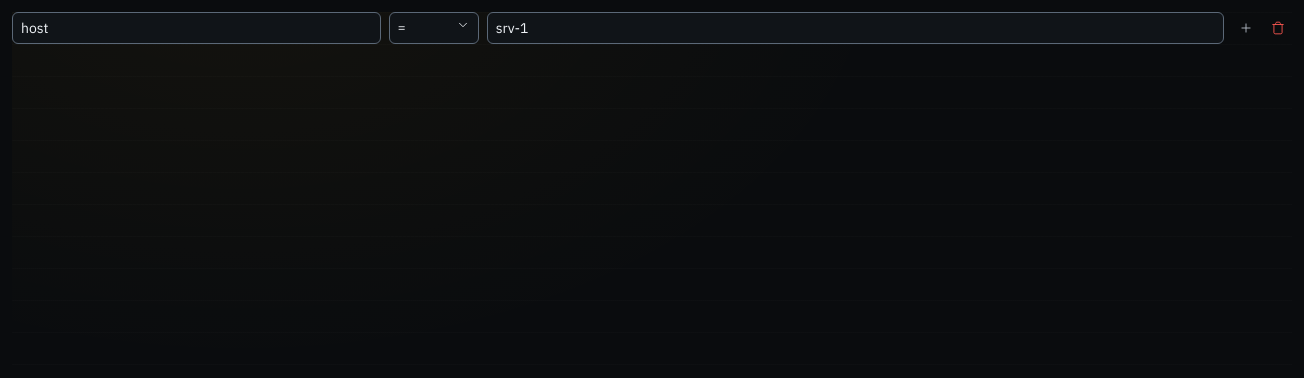
Scenario: ConditionNode — SEARCH operator (field masked, value-only) › switching SEARCH back to a field-bearing operator restores the masked field
Click the dropdown.
click(434, 28)  # box [389,12,479,44]
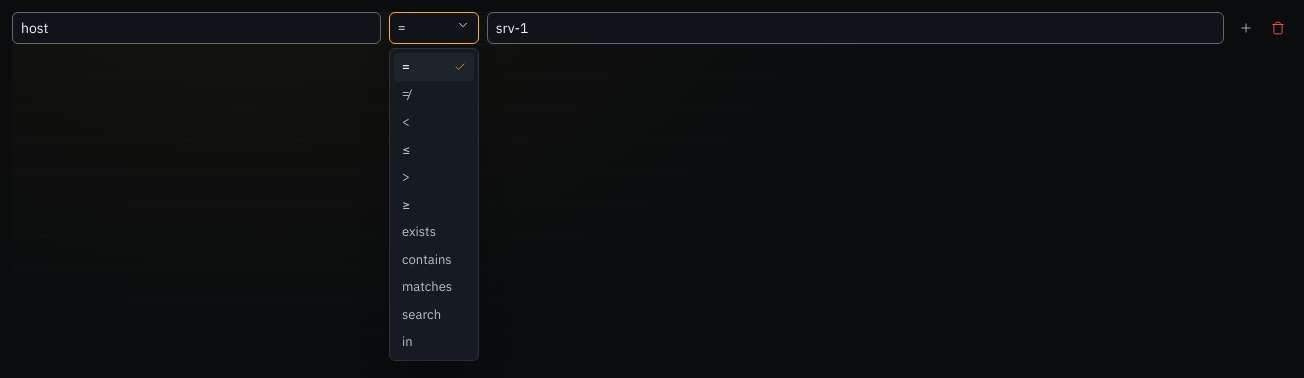
Click the option "search".
click(422, 314)  # box [402,306,441,322]
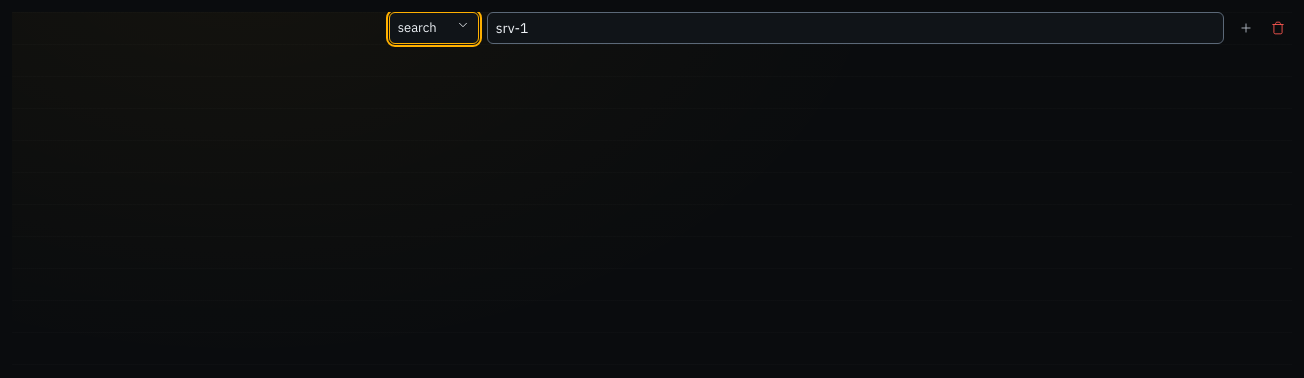
Result: the field with placeholder "field" is gone
Click the dropdown.
click(434, 28)  # box [389,12,479,44]
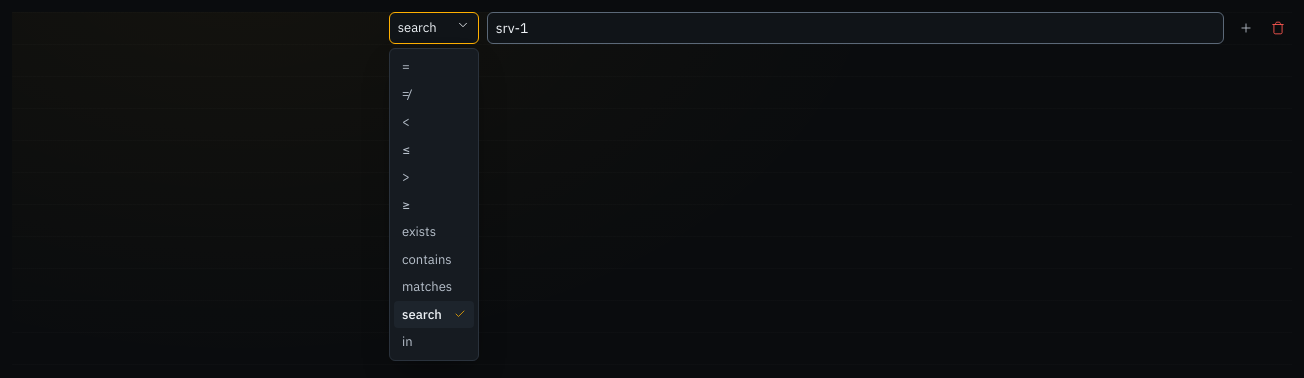
Click the option "=".
click(406, 66)  # box [402,58,410,75]
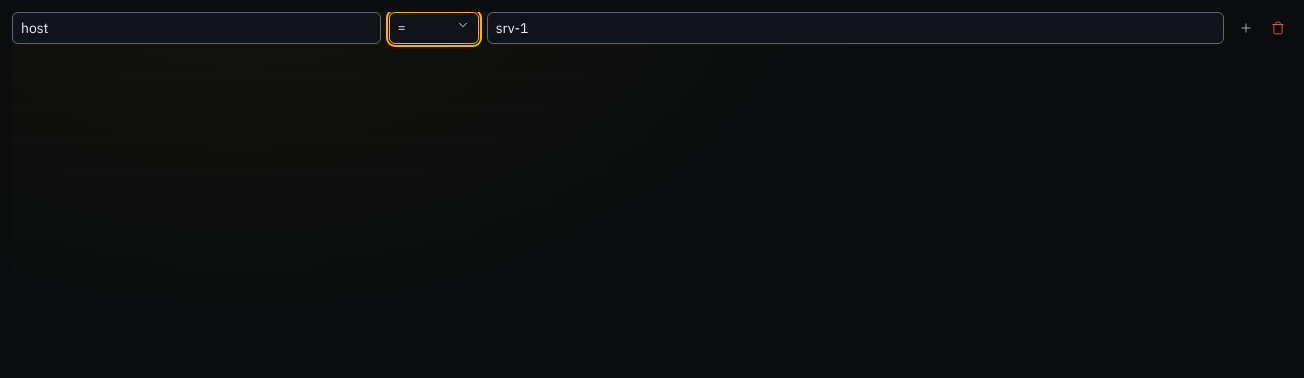
Result: the 1st field with placeholder "field" holds "host" at [13,18,380,38]
